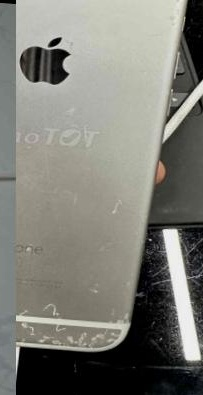scratch: (16, 261, 136, 353), (96, 176, 131, 236)
